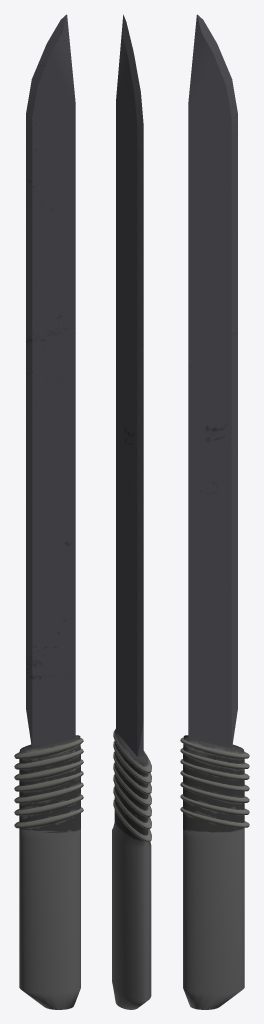
File: sword.fbx
3 views of the same model, side by side, from view 1: azimuth 90°, elevation 25°; view 2: azimuth 210°, elevation 25°; view 3: azimuth 270°, elevation 25° (orthographic).
Parts seen in each view (by area): view 1: defaultMaterial.001; view 2: defaultMaterial.001; view 3: defaultMaterial.001.
Part boxes in pixels (x1,y1,x2,y2): defaultMaterial.001: (14, 14, 83, 1009); defaultMaterial.001: (112, 14, 151, 1009); defaultMaterial.001: (180, 14, 249, 1009).
Bounding box in the file's own units: 2.22 × 86.52 × 5.5.
1 material, 1 textured.
